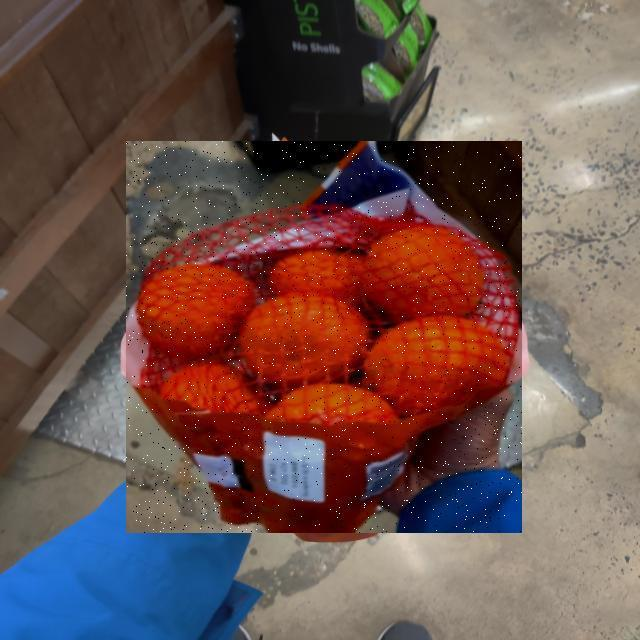orange: (0, 266, 387, 640)
